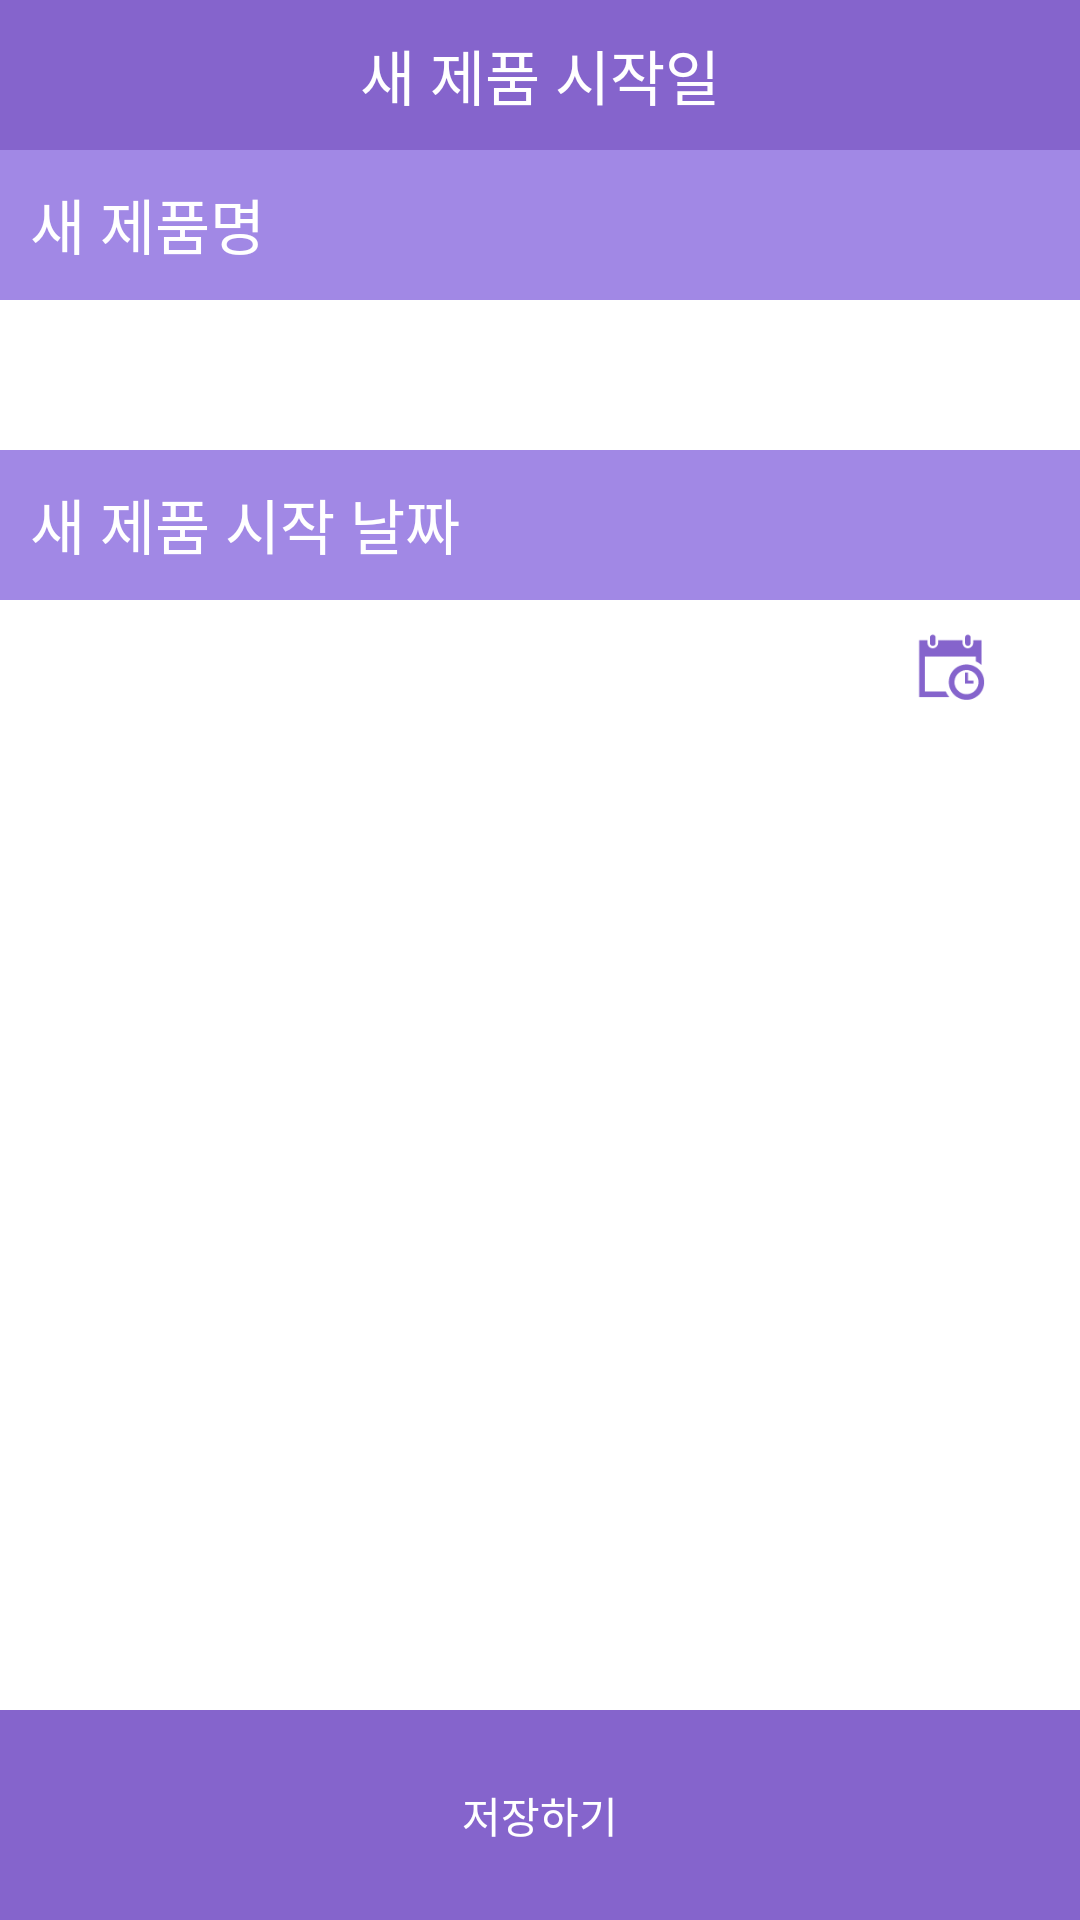

Where icons sit on this 1080×1920 app screen, as [left=x1, top=y1, right=x2, bottom=y2]:
specialday calendar: [left=919, top=634, right=984, bottom=700]
